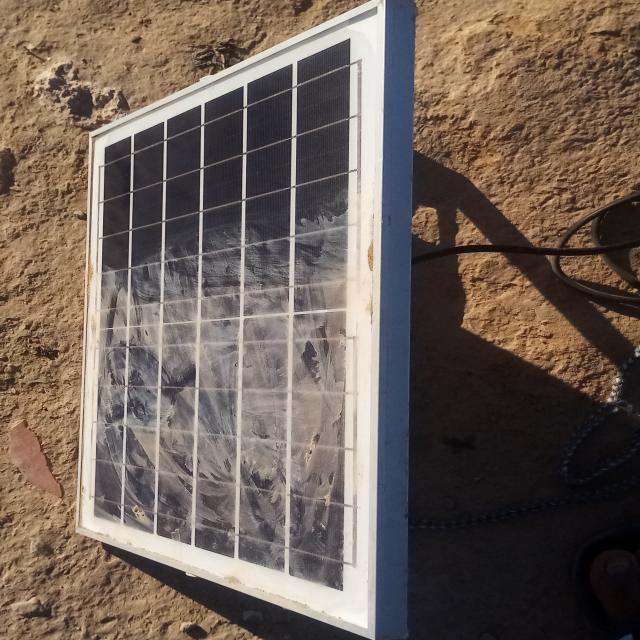faulty: (70, 2, 388, 638)
